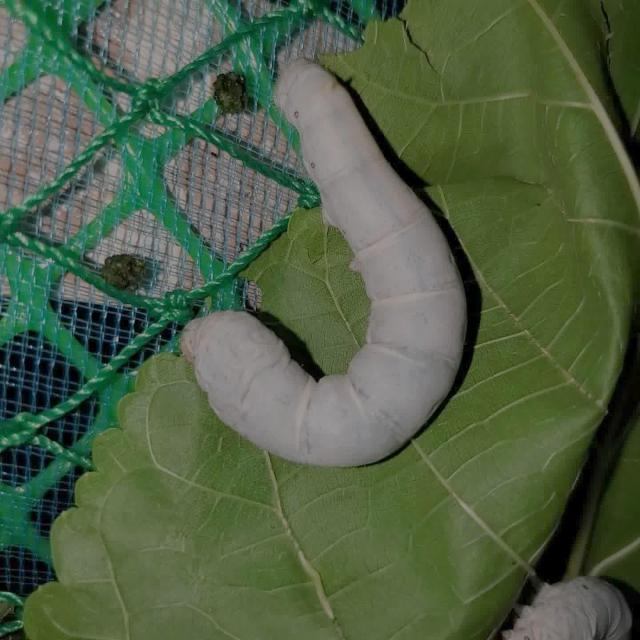Healthy: (139, 42, 501, 483)
